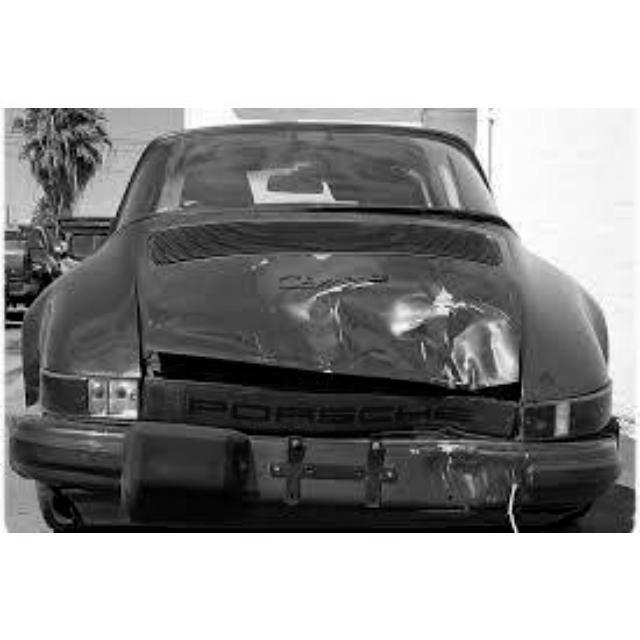boot-dent: (128, 217, 516, 391), (122, 424, 547, 531)
